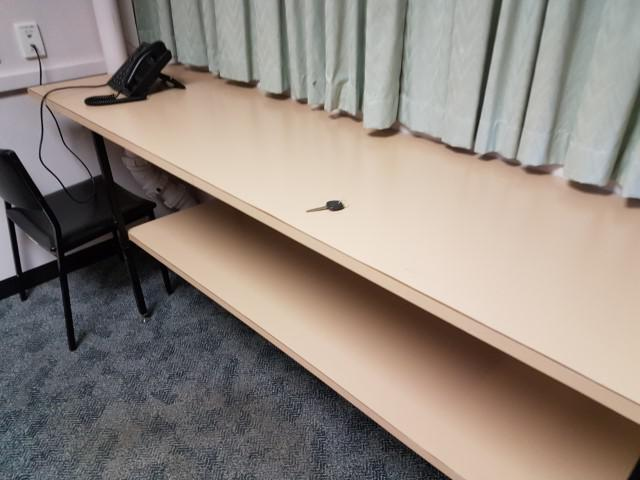key: (307, 200, 344, 213)
